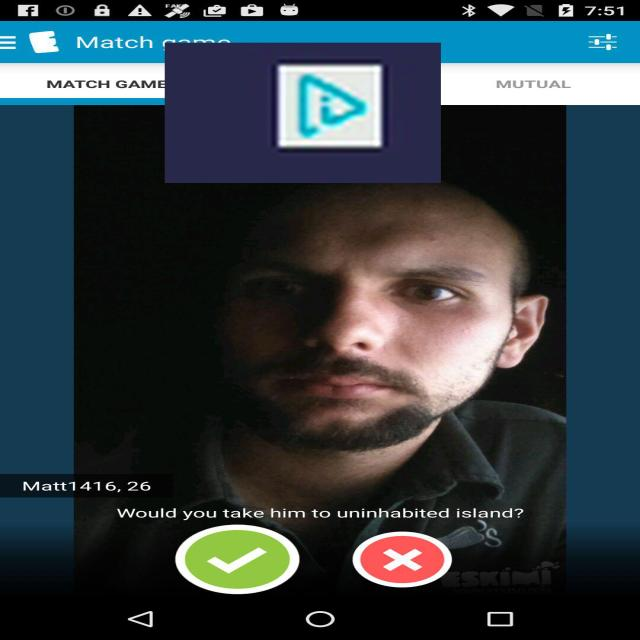sneaking: (165, 43, 441, 183)
